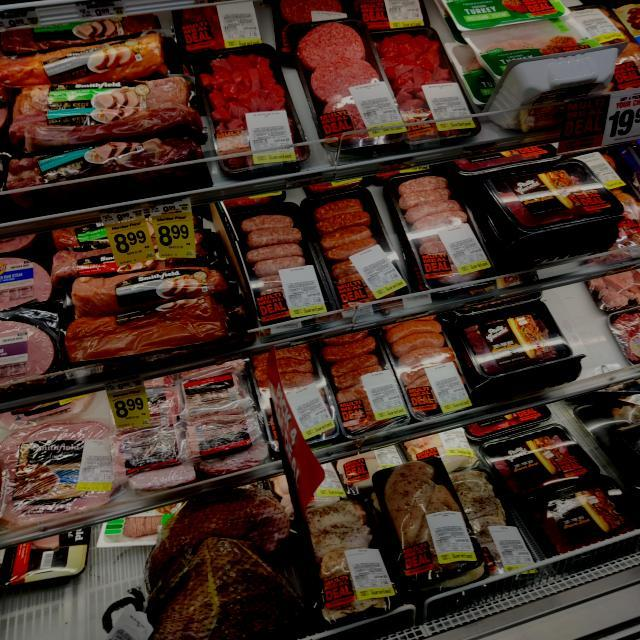Meat: (133, 540, 306, 640), (288, 19, 407, 146), (198, 46, 310, 172), (0, 134, 201, 202), (386, 170, 496, 294), (378, 456, 481, 586), (303, 188, 406, 311), (66, 292, 241, 363), (372, 26, 480, 140), (304, 497, 400, 619), (237, 205, 333, 324), (314, 327, 412, 441), (0, 422, 121, 512), (13, 84, 201, 140), (485, 160, 623, 234), (446, 470, 538, 578), (529, 474, 640, 559), (482, 422, 602, 500), (451, 301, 572, 378), (385, 316, 475, 418), (74, 266, 228, 319), (460, 19, 597, 73), (0, 307, 63, 389), (190, 419, 272, 474), (122, 436, 201, 488), (0, 256, 53, 312)
